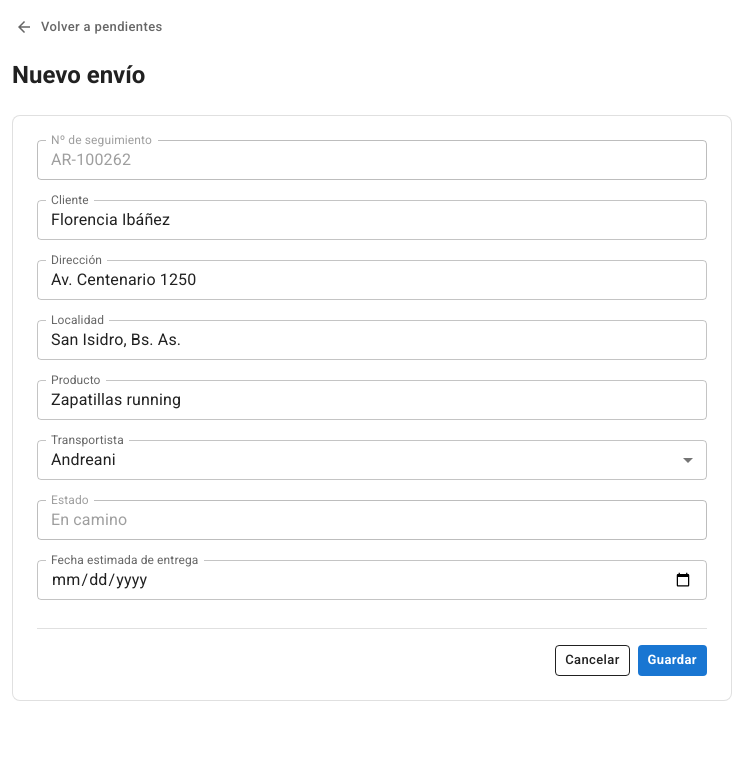
NewShipmentPage › muestra validaciones y no guarda si faltan datos
Clear the field labelled "Cliente": (372, 220) [37,200,707,240]
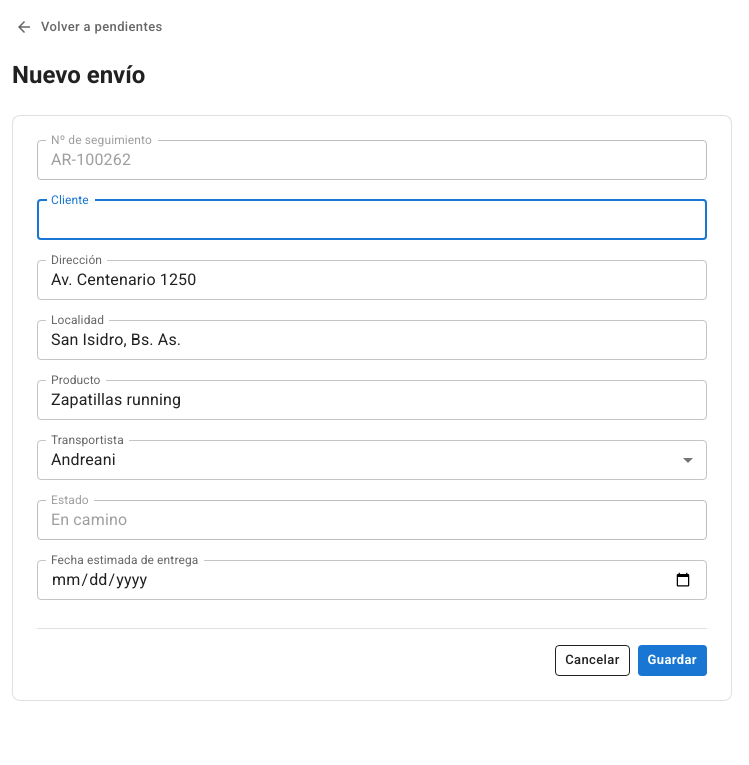
Click the button "Guardar": (672, 660) [638,645,707,676]
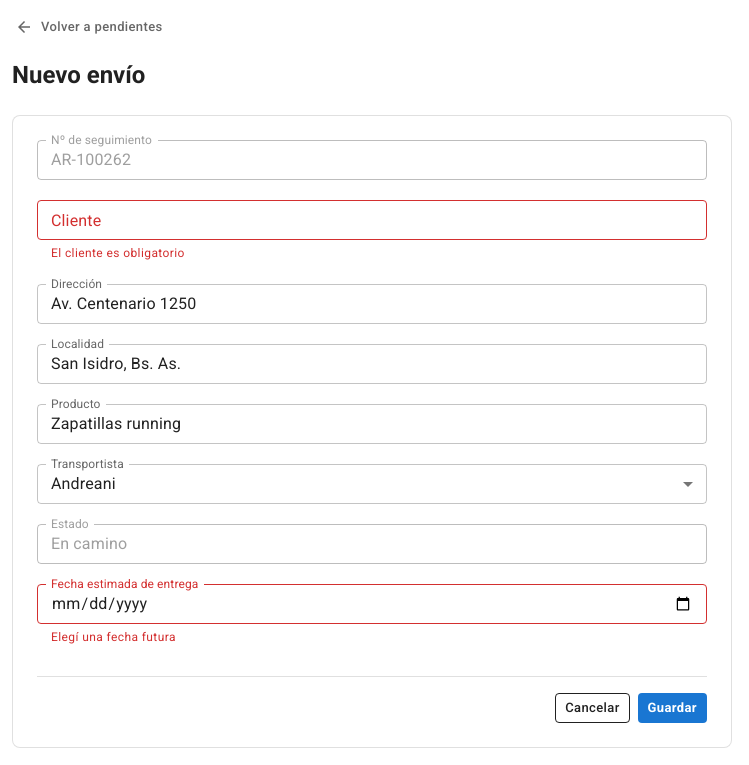
Check: the text "El cliente es obligatorio" is shown, box [51,246,185,260]
Check: the text "Elegí una fecha futura" is shown, box [51,630,176,644]
